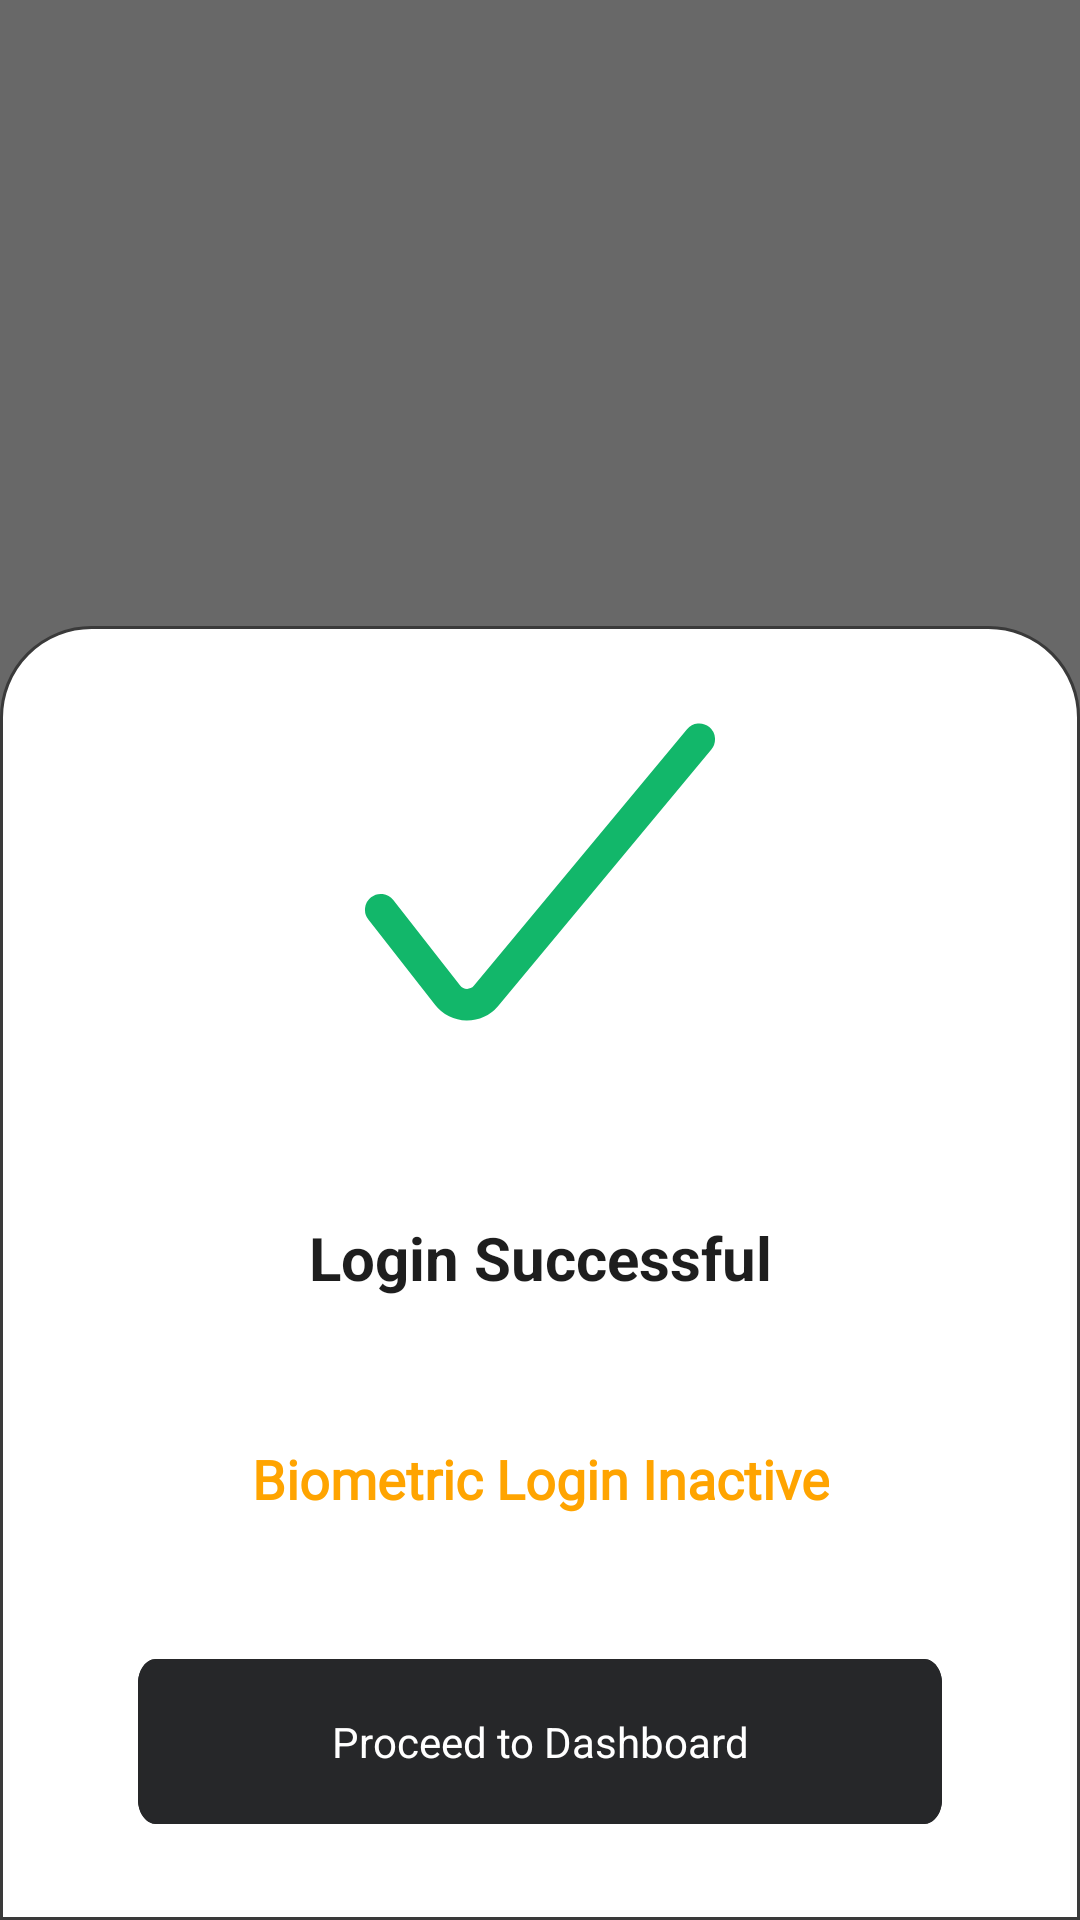

Screen size 1080w x 1920h. Icon name, then its center in pixels as point (x, y):
success: point (540, 872)
